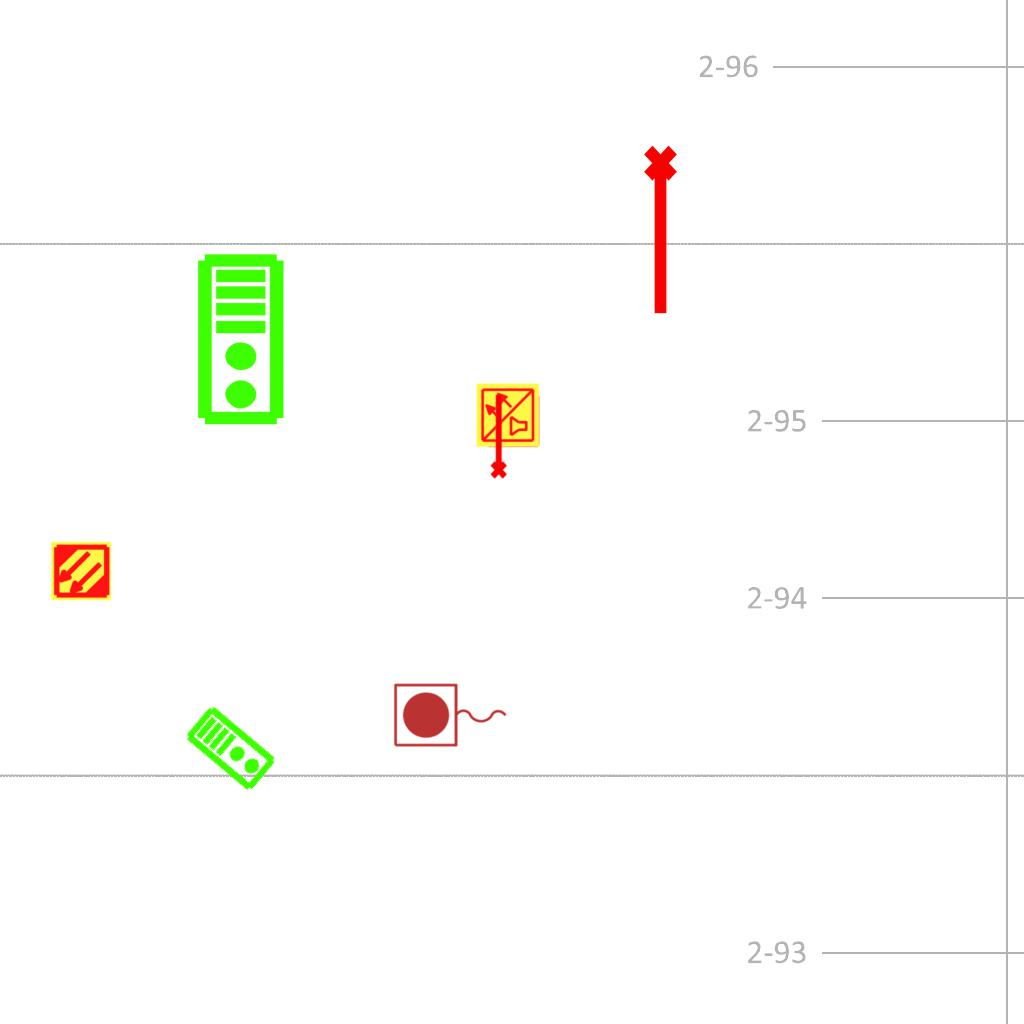ASR_Ansaugoeffnung: (640, 143, 686, 319), (486, 392, 509, 480)
ASR_Ansaugrauchmelder: (50, 540, 112, 602)
Gegensprechanlage_mit_Video: (195, 252, 290, 428), (182, 701, 281, 795)
OKW_Multisensormelder_(Kombination_optischer_Rauch-Kahlenmonoxid_Waerme-Melder): (475, 382, 541, 448)
Zugtaster: (390, 680, 512, 752)
